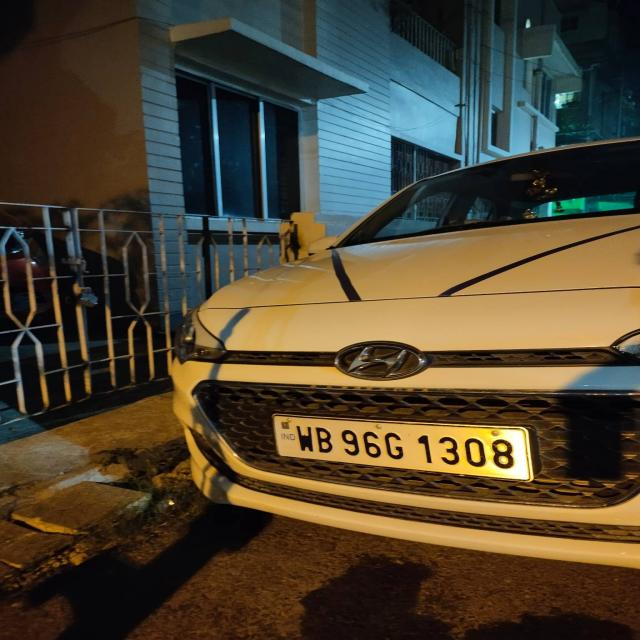license_plate: (267, 408, 543, 487)
